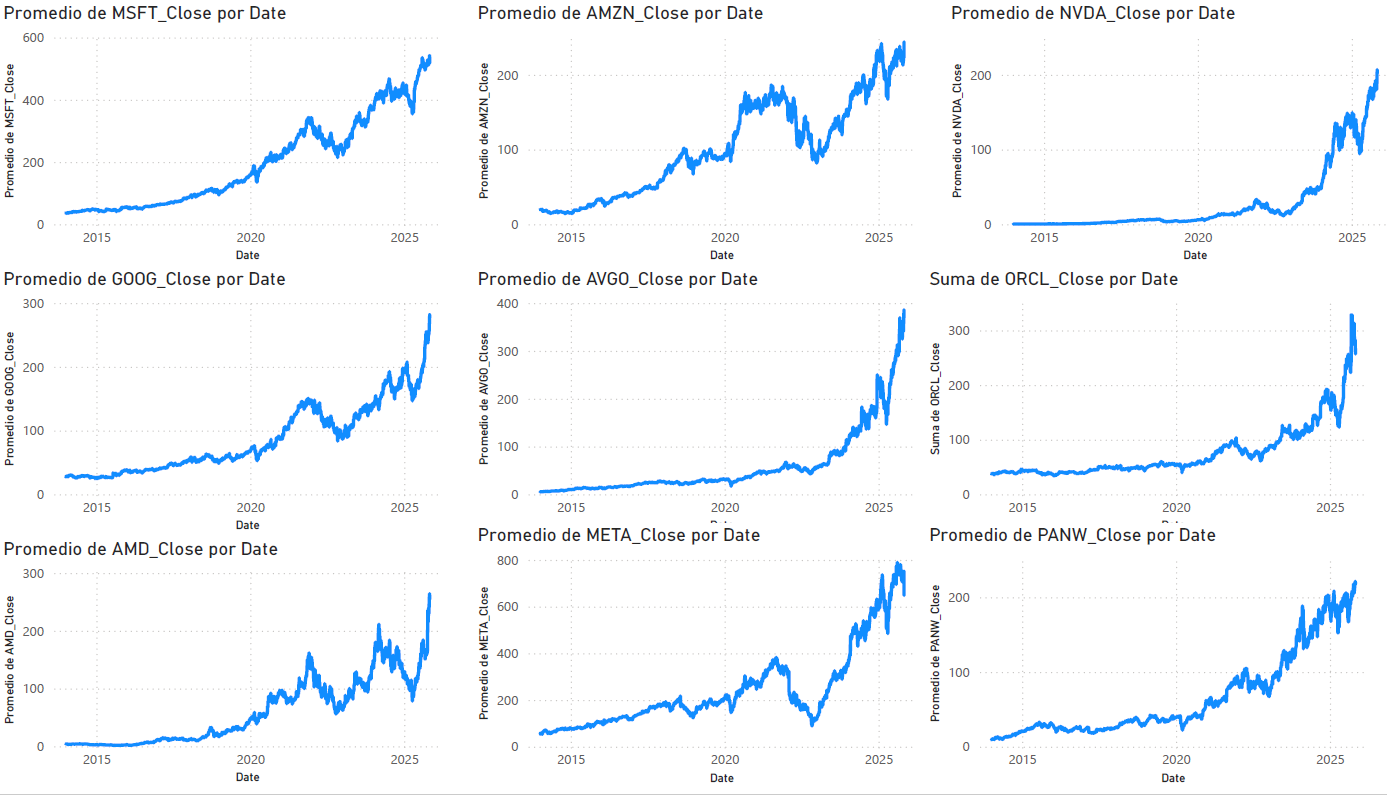

The dashboard page shown, as its layout file describes it:
{"tool":"powerbi","page":{"name":"Stocks","canvas":[1280,720],"ordinal":0},"visuals":[{"type":"lineChart","fields":{"Y":["Avg(MSFT_Gold.MSFT_Close)"],"Category":["MSFT_Gold.Date"]},"box":[0,0,413,242.9],"z":0},{"type":"lineChart","fields":{"Y":["Avg(GOOG_Gold.GOOG_Close)"],"Category":["GOOG_Gold.Date"]},"box":[0,242.9,413,247],"z":1000},{"type":"lineChart","fields":{"Category":["AMD_Gold.Date"],"Y":["Avg(AMD_Gold.AMD_Close)"]},"box":[0,489.9,413,230.5],"z":2000},{"type":"lineChart","fields":{"Y":["Avg(AMZN_Gold.AMZN_Close)"],"Category":["AMZN_Gold.Date"]},"box":[433.6,0,413,242.9],"z":3000},{"type":"lineChart","fields":{"Category":["NVDA_Gold.Date"],"Y":["Avg(NVDA_Gold.NVDA_Close)"]},"box":[867.2,0,413,242.9],"z":4000},{"type":"lineChart","fields":{"Category":["AVGO_Gold.Date"],"Y":["Avg(AVGO_Gold.AVGO_Close)"]},"box":[433.6,242.9,413,247],"z":5000},{"type":"lineChart","fields":{"Category":["META_Gold.Date"],"Y":["Avg(META_Gold.META_Close)"]},"box":[433.6,477.5,413,242.9],"z":6000},{"type":"lineChart","fields":{"Category":["NVDA_Gold.Date"],"Y":["Avg(NVDA_Gold.NVDA_Close)"]},"box":[867,0,413,242.9],"z":7000},{"type":"lineChart","fields":{"Y":["Sum(ORCL_Gold.ORCL_Close)"],"Category":["ORCL_Gold.Date"]},"box":[846.7,242.9,413,247],"z":8000},{"type":"lineChart","fields":{"Category":["PANW_Gold.Date"],"Y":["Avg(PANW_Gold.PANW_Close)"]},"box":[846.7,477.5,413,242.9],"z":9000}]}

Visuals, with their boxes in screenshot pixels (x1, y1, x2, y2), scaled from the page's 1280x720 canvas onto the 1387x795 screenshot:
lineChart - Avg(MSFT_Gold.MSFT_Close) x MSFT_Gold.Date: x1=0, y1=0, x2=448, y2=268
lineChart - Avg(GOOG_Gold.GOOG_Close) x GOOG_Gold.Date: x1=0, y1=268, x2=448, y2=541
lineChart - AMD_Gold.Date x Avg(AMD_Gold.AMD_Close): x1=0, y1=541, x2=448, y2=794
lineChart - Avg(AMZN_Gold.AMZN_Close) x AMZN_Gold.Date: x1=470, y1=0, x2=917, y2=268
lineChart - NVDA_Gold.Date x Avg(NVDA_Gold.NVDA_Close): x1=940, y1=0, x2=1386, y2=268
lineChart - AVGO_Gold.Date x Avg(AVGO_Gold.AVGO_Close): x1=470, y1=268, x2=917, y2=541
lineChart - META_Gold.Date x Avg(META_Gold.META_Close): x1=470, y1=527, x2=917, y2=794
lineChart - NVDA_Gold.Date x Avg(NVDA_Gold.NVDA_Close): x1=939, y1=0, x2=1386, y2=268
lineChart - Sum(ORCL_Gold.ORCL_Close) x ORCL_Gold.Date: x1=917, y1=268, x2=1365, y2=541
lineChart - PANW_Gold.Date x Avg(PANW_Gold.PANW_Close): x1=917, y1=527, x2=1365, y2=794
